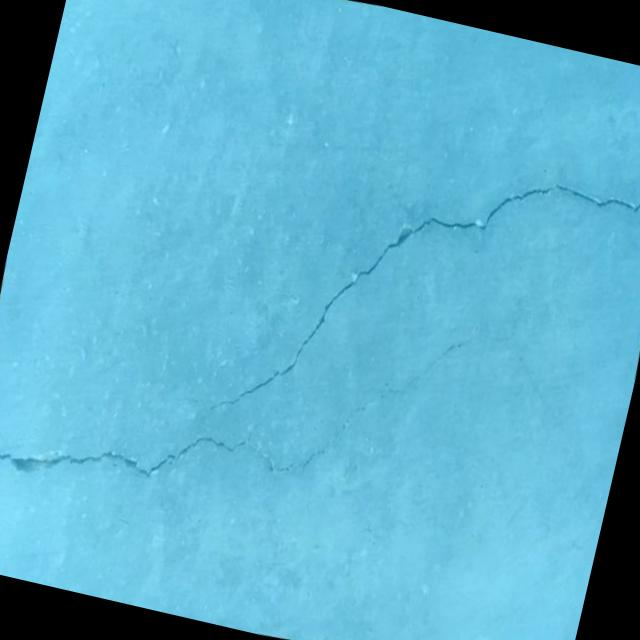crack: (161, 81, 640, 504), (0, 241, 470, 566)
